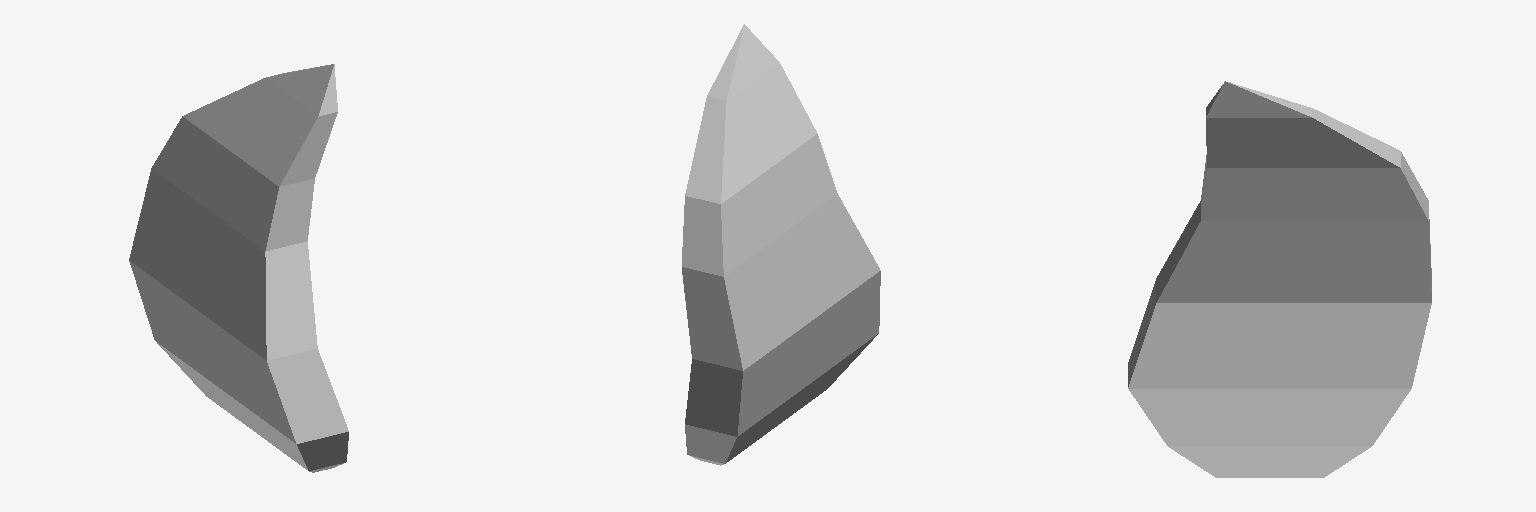
File: alader.obj
The picture shows the model from 3 angles: view 1: azimuth 30°, elevation 25°; view 2: azimuth 150°, elevation 25°; view 3: azimuth 270°, elevation 25°; orthographic projection.
Visible parts, largest first — view 1: WİNG.001; view 2: WİNG.001; view 3: WİNG.001.
Part boxes in pixels (x1,y1,x2,y2): WİNG.001: (129,64,348,472); WİNG.001: (682,24,880,465); WİNG.001: (1128,81,1431,477).
Bounding box in the file's own units: 0.2145 × 0.8014 × 0.5522.